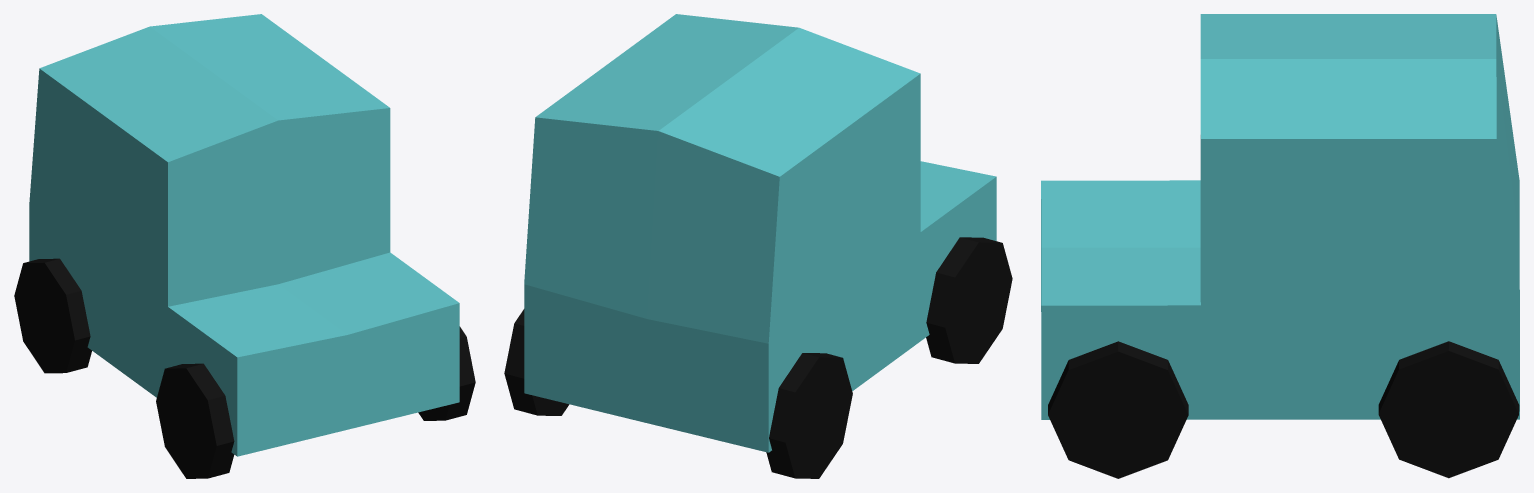
File: Car.fbx
3 renders of one model, left to right at view 1: azimuth 30°, elevation 25°; view 2: azimuth 150°, elevation 25°; view 3: azimuth 270°, elevation 25°, orthographic. The views are drawn at different scales.
Parts seen in each view (by area): view 1: Car, Wheels; view 2: Car, Wheels; view 3: Car, Wheels.
Boxes of the visible parts, x1=… form: Car: x1=29, y1=14, x2=459, y2=456; Wheels: x1=14, y1=258, x2=475, y2=478; Car: x1=524, y1=14, x2=996, y2=452; Wheels: x1=504, y1=237, x2=1012, y2=478; Car: x1=1041, y1=14, x2=1519, y2=419; Wheels: x1=1048, y1=341, x2=1519, y2=478.
Bounding box in the file's own units: 233 × 259 × 324.
